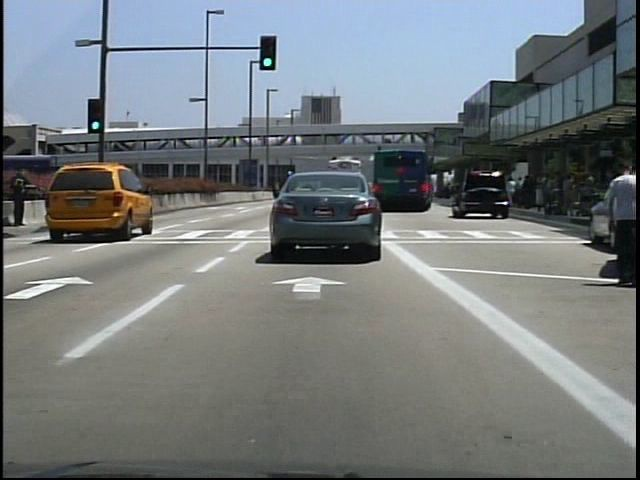person: (602, 152, 637, 295), (10, 164, 33, 228)
